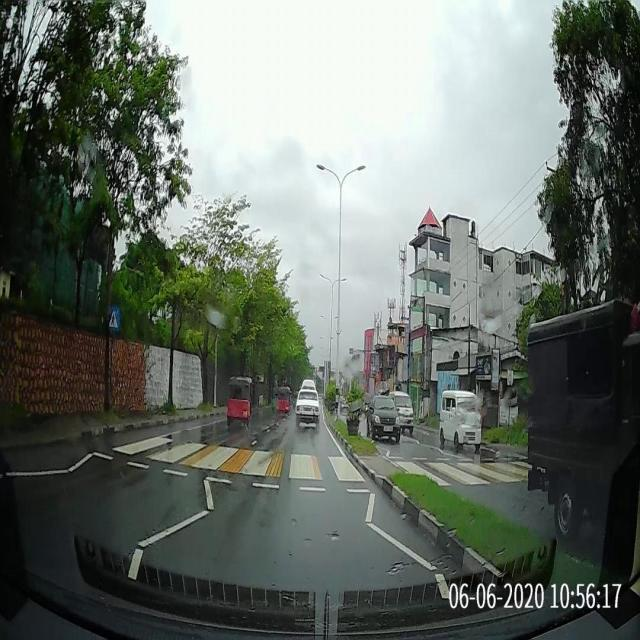Crosswalk: (91, 429, 382, 494)
